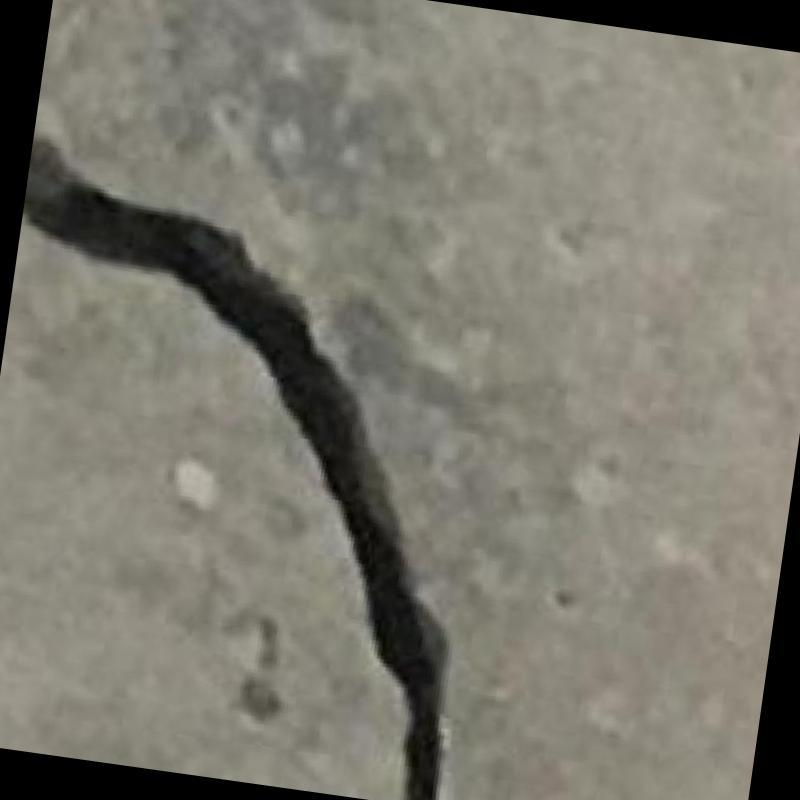crack: (22, 138, 445, 800)
